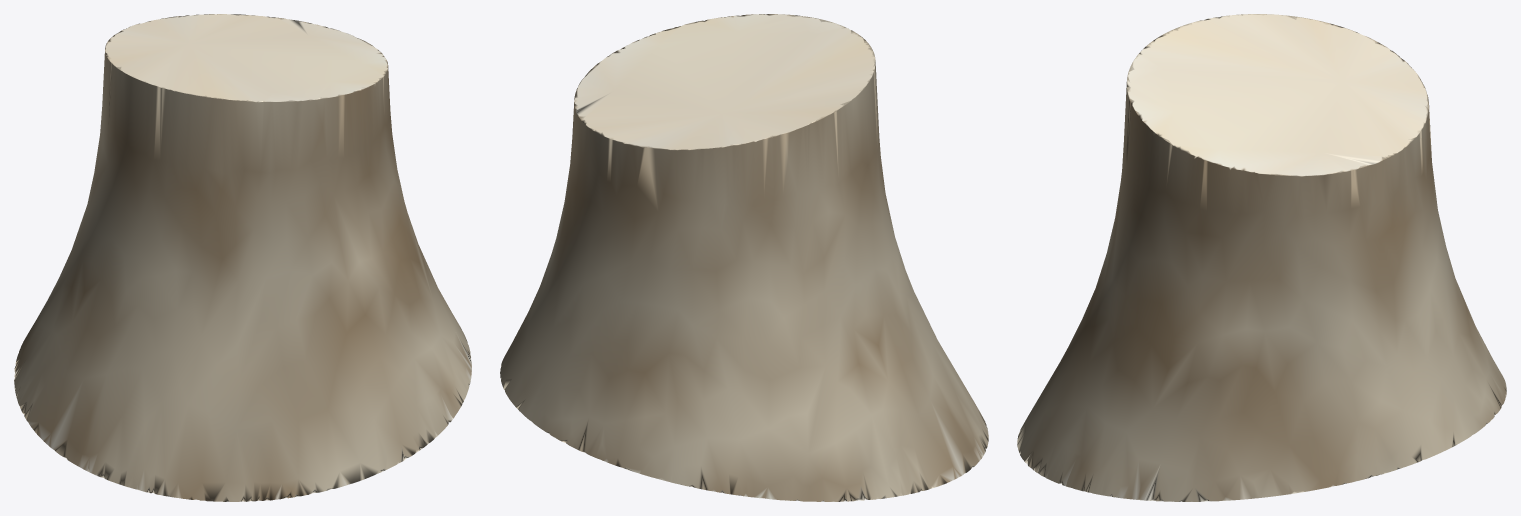
File: amanita-scout-stem-middle.glb
3 views of the same model, side by side, from view 1: azimuth 30°, elevation 25°; view 2: azimuth 150°, elevation 25°; view 3: azimuth 270°, elevation 25° (orthographic). The views are drawn at different scales.
Visible parts, largest first — view 1: body; view 2: body; view 3: body.
Part boxes in pixels (bbox=[...]): body: bbox=[14, 14, 471, 501]; body: bbox=[500, 14, 988, 501]; body: bbox=[1017, 14, 1506, 501].
Size of the model in its own units: 0.5465 by 0.4704 by 0.5468.
